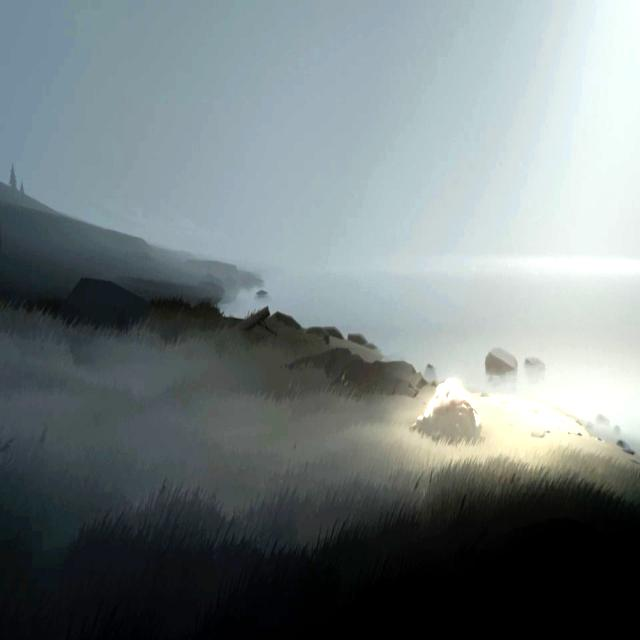blob: (412, 374, 485, 441)
